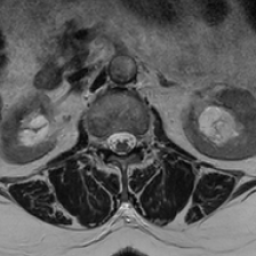CCS_normal: (116, 122, 126, 162)
LFS_normal: (136, 123, 147, 155)
LLS_normal: (126, 122, 136, 158)
RFS_normal: (97, 125, 107, 155)
RLS_normal: (107, 125, 116, 157)
